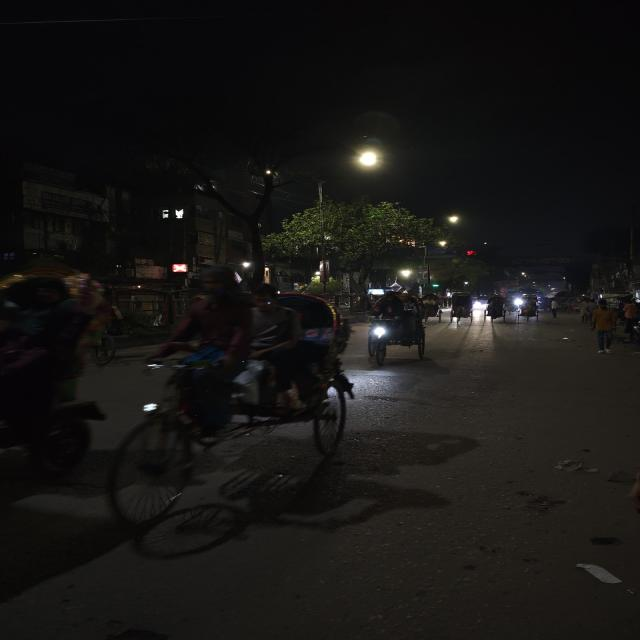pedestrian: (586, 297, 618, 355), (620, 291, 640, 345), (578, 293, 598, 324)
rickshaw: (107, 278, 359, 542), (354, 286, 429, 369), (448, 290, 476, 326), (482, 293, 509, 325), (419, 291, 444, 325), (518, 290, 543, 320)
